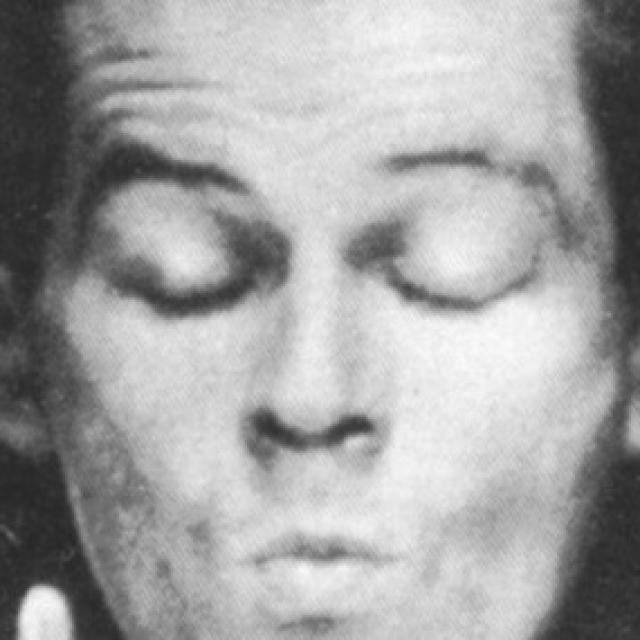real: (38, 0, 628, 640), (92, 198, 556, 338)
